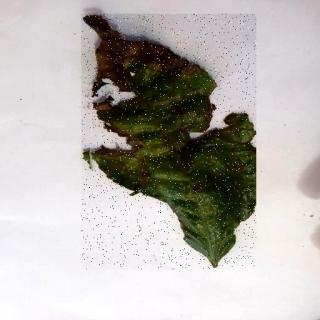Algal Leaf: (83, 15, 258, 270)
